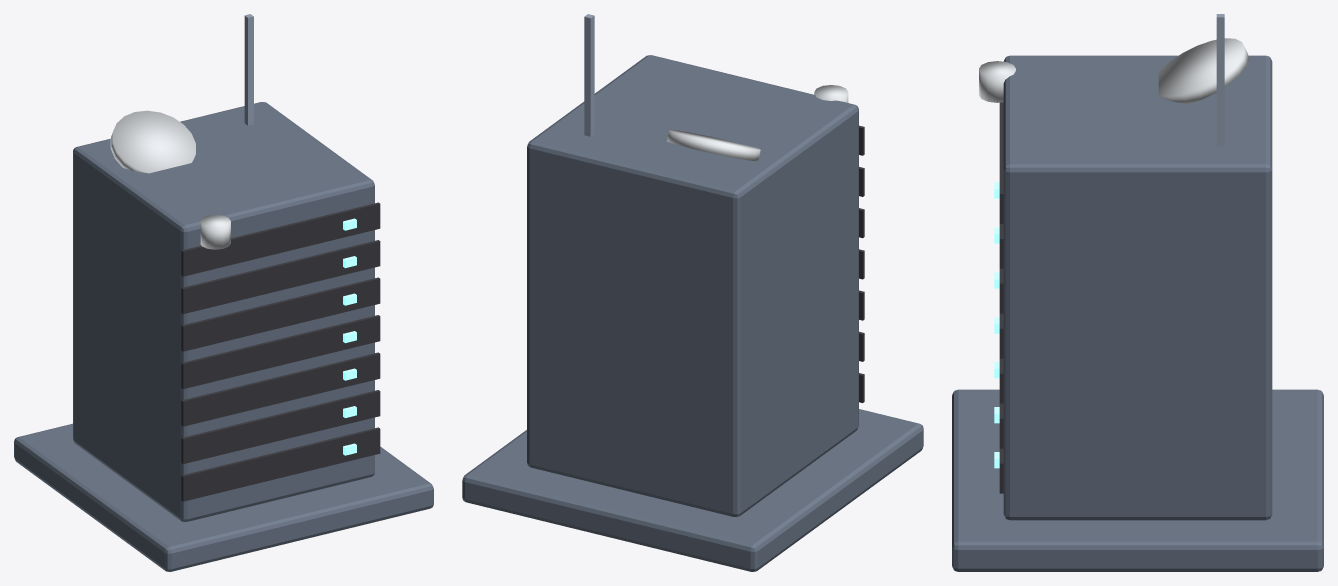
The model's file is servidor.glb.
3 renders of one model, left to right at view 1: azimuth 30°, elevation 25°; view 2: azimuth 150°, elevation 25°; view 3: azimuth 270°, elevation 25°, orthographic. The views are drawn at different scales.
Parts seen in each view (by area): view 1: rack, base, bahia_0, bahia_1, bahia_2, bahia_3, bahia_4, bahia_5, bahia_6, disco, antena, luz_estado; view 2: rack, base, disco, antena; view 3: rack, base, disco, antena, luz_estado, bahia_6.
Boxes of the visible parts, x1,y1,x2,y2 form: rack: (73,102,374,521); base: (14,423,433,571); bahia_0: (181,427,380,501); bahia_1: (181,390,380,464); bahia_2: (181,352,380,426); bahia_3: (181,315,380,389); bahia_4: (181,277,380,351); bahia_5: (181,240,380,314); bahia_6: (181,202,380,276); disco: (110,110,195,173); antena: (244,14,253,125); luz_estado: (200,214,230,249); rack: (527,55,858,516); base: (462,409,923,571); disco: (667,129,760,161); antena: (584,14,594,136); rack: (1003,55,1272,520); base: (952,389,1323,571); disco: (1158,38,1249,104); antena: (1216,14,1224,146); luz_estado: (979,61,1015,102); bahia_6: (999,102,1003,223).
Bounding box in the file's own units: 1.8 × 2.75 × 1.8.
